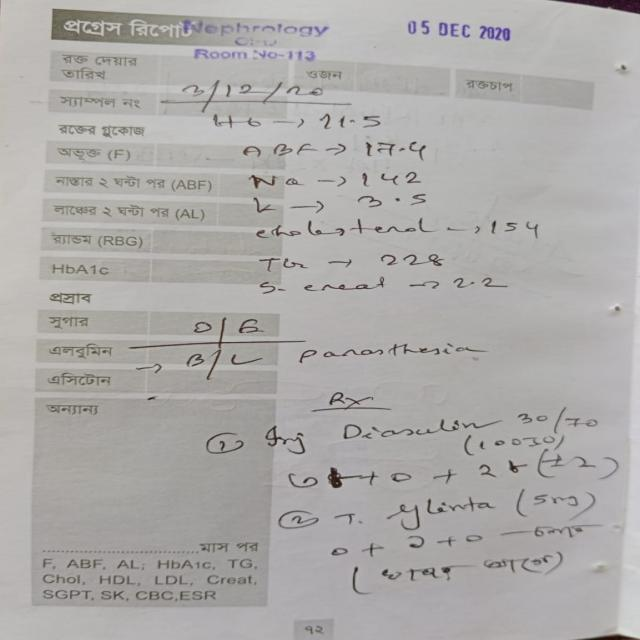Diasulin: (331, 412, 495, 445)
Glinta: (376, 491, 505, 533)
